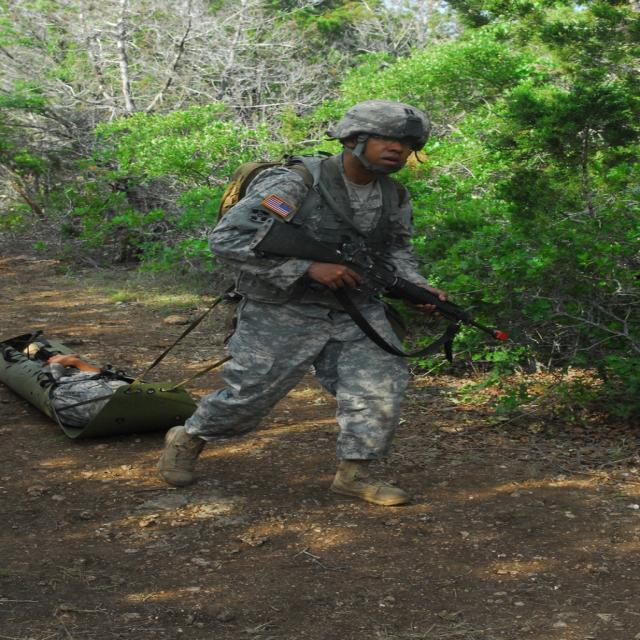weapon: (244, 222, 511, 345)
